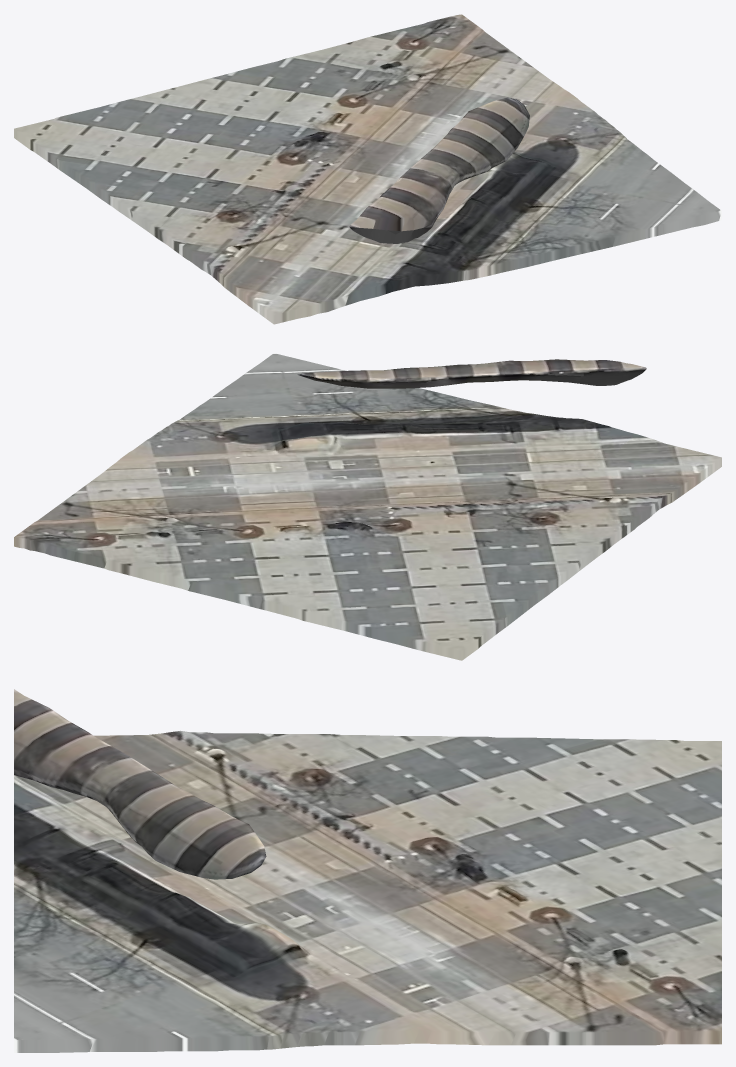
The model's file is z20-167788-405220-h0-yup-uvflip-v3-world.glb.
3 renders of one model, top to bottom at view 1: azimuth 30°, elevation 25°; view 2: azimuth 150°, elevation 25°; view 3: azimuth 270°, elevation 25°, orthographic. The views are drawn at different scales.
Bounding box in the file's own units: 30.16 × 5.64 × 30.32.
1 material, 1 textured.
